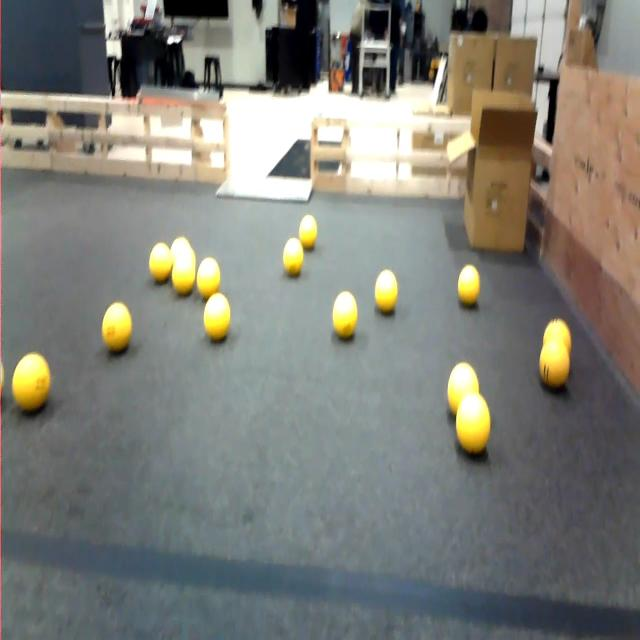fuel: (8, 350, 61, 418), (95, 297, 143, 360), (326, 281, 367, 352), (442, 354, 484, 420), (368, 258, 408, 321), (454, 390, 494, 450), (536, 331, 572, 392), (452, 254, 487, 312), (201, 288, 232, 342), (169, 248, 198, 299), (194, 253, 224, 300), (542, 315, 579, 353), (148, 235, 173, 284), (300, 208, 321, 248), (284, 238, 302, 276), (0, 347, 8, 413), (171, 228, 191, 253)
